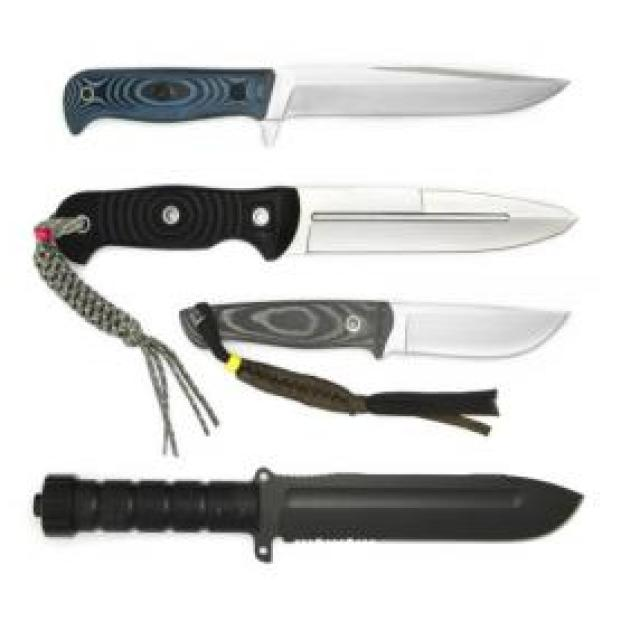knife: (31, 470, 593, 564), (47, 186, 578, 264), (65, 60, 572, 140), (172, 300, 571, 355)
